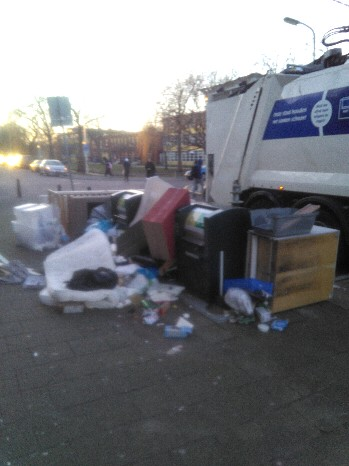Container: (170, 201, 241, 291), (115, 190, 141, 220)
Rest: (66, 210, 144, 335), (252, 239, 348, 338), (90, 222, 162, 287), (22, 198, 79, 259), (62, 179, 115, 226), (257, 207, 329, 239), (146, 177, 189, 214)
Voertuig: (203, 70, 349, 200), (36, 148, 72, 180)
